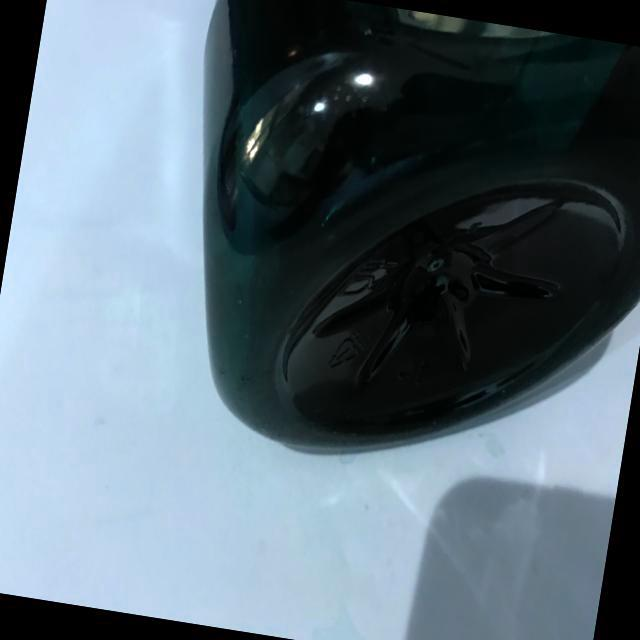plastic: (105, 0, 640, 532)
